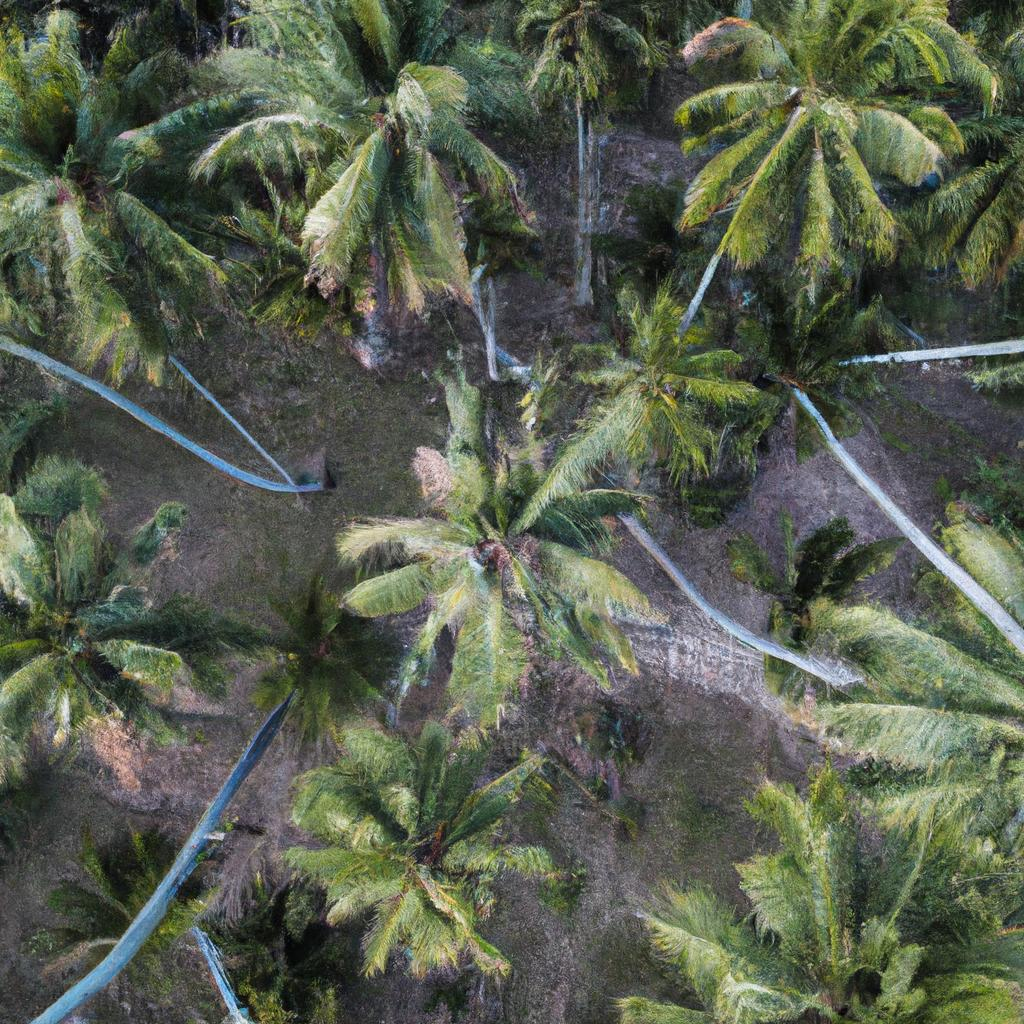coconut_tree: (312, 369, 689, 718), (194, 0, 599, 315), (271, 697, 605, 966), (656, 0, 982, 256)
